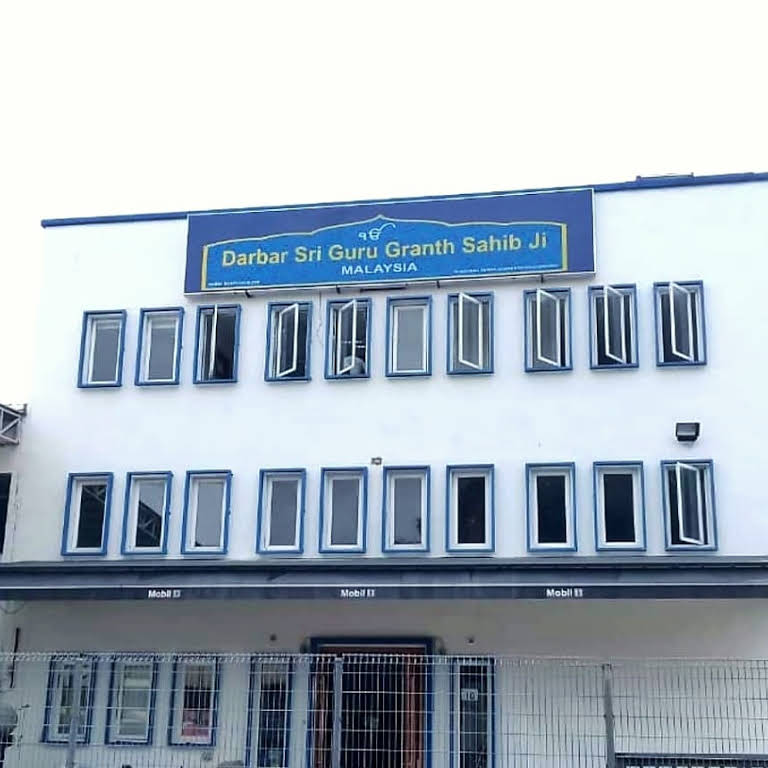Gurdwara: (27, 158, 765, 723)
